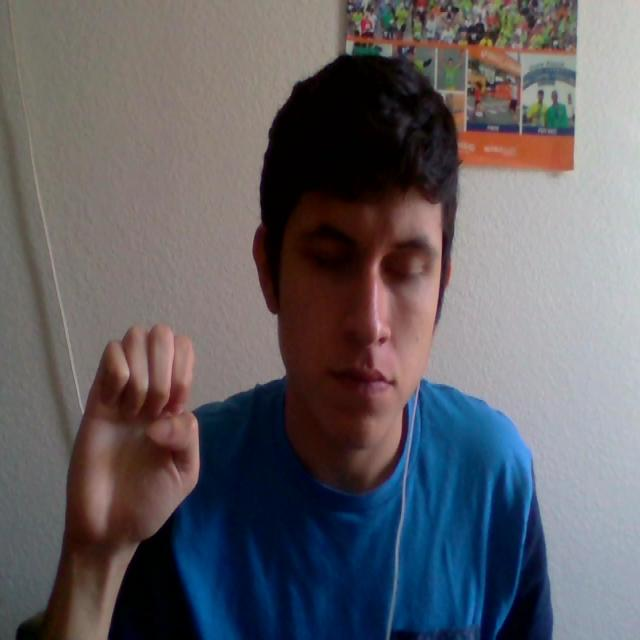E: (66, 288, 210, 564)
